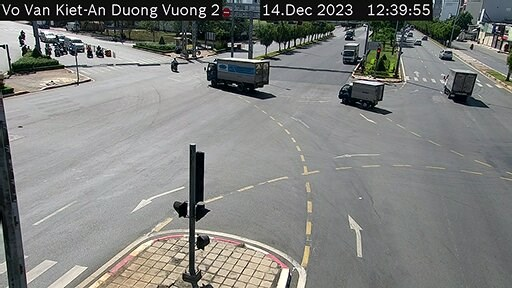car: (439, 47, 458, 62)
motorbike: (169, 57, 180, 74)
truck: (203, 53, 276, 94), (335, 76, 391, 109), (443, 65, 477, 101), (63, 36, 89, 53), (340, 41, 360, 63)
